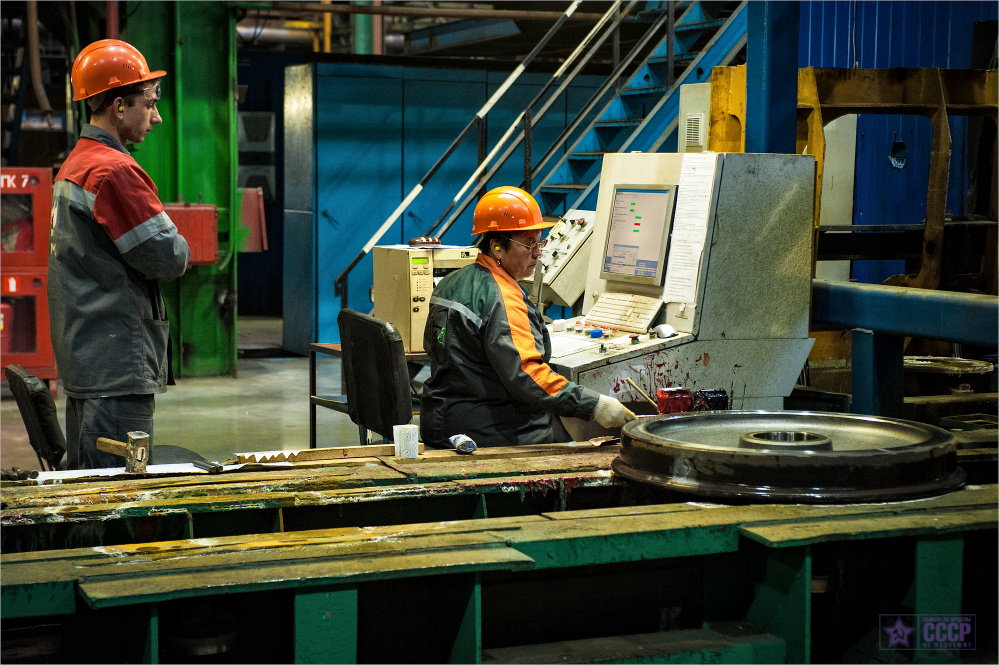person: (50, 41, 188, 471), (424, 185, 639, 447)
